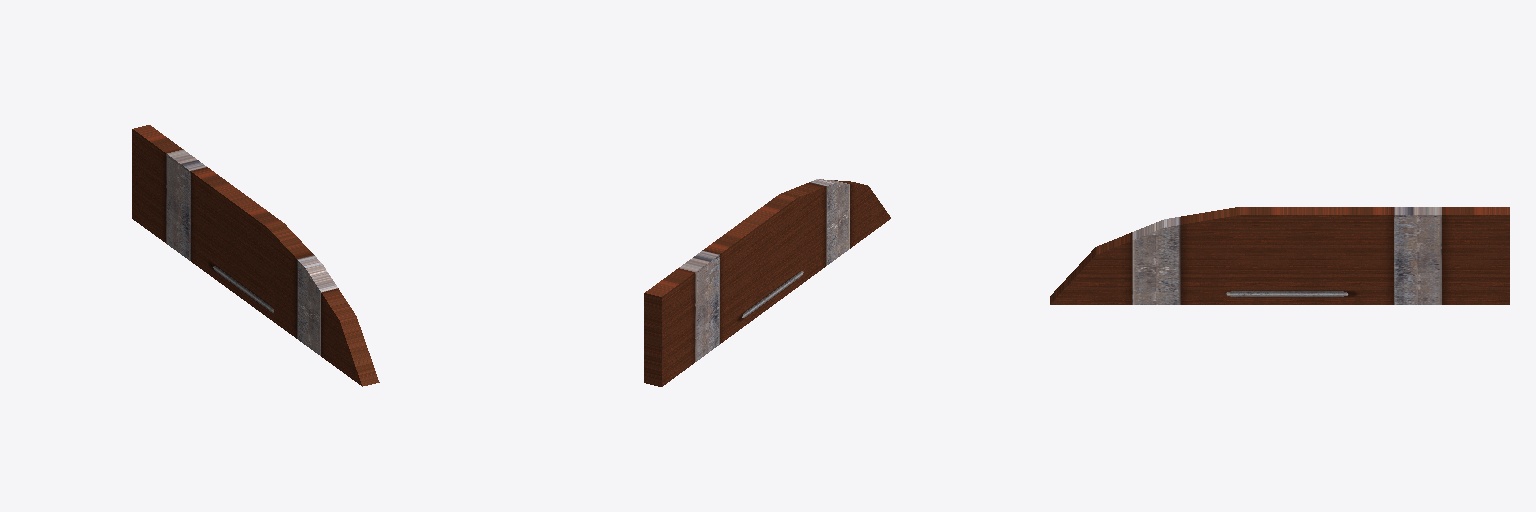
3 renders of one model, left to right at view 1: azimuth 30°, elevation 25°; view 2: azimuth 150°, elevation 25°; view 3: azimuth 270°, elevation 25°, orthographic.
Parts seen in each view (by area): view 1: Window_Shutter_L012_Mesh.020; view 2: Window_Shutter_L012_Mesh.020; view 3: Window_Shutter_L012_Mesh.020.
Part boxes in pixels (left/top/right/bottom): Window_Shutter_L012_Mesh.020: left=132, top=125, right=379, bottom=386; Window_Shutter_L012_Mesh.020: left=644, top=179, right=890, bottom=386; Window_Shutter_L012_Mesh.020: left=1050, top=207, right=1509, bottom=304.
Bounding box in the file's own units: 0.0508 × 0.2558 × 1.18.
1 materials, 1 textured.